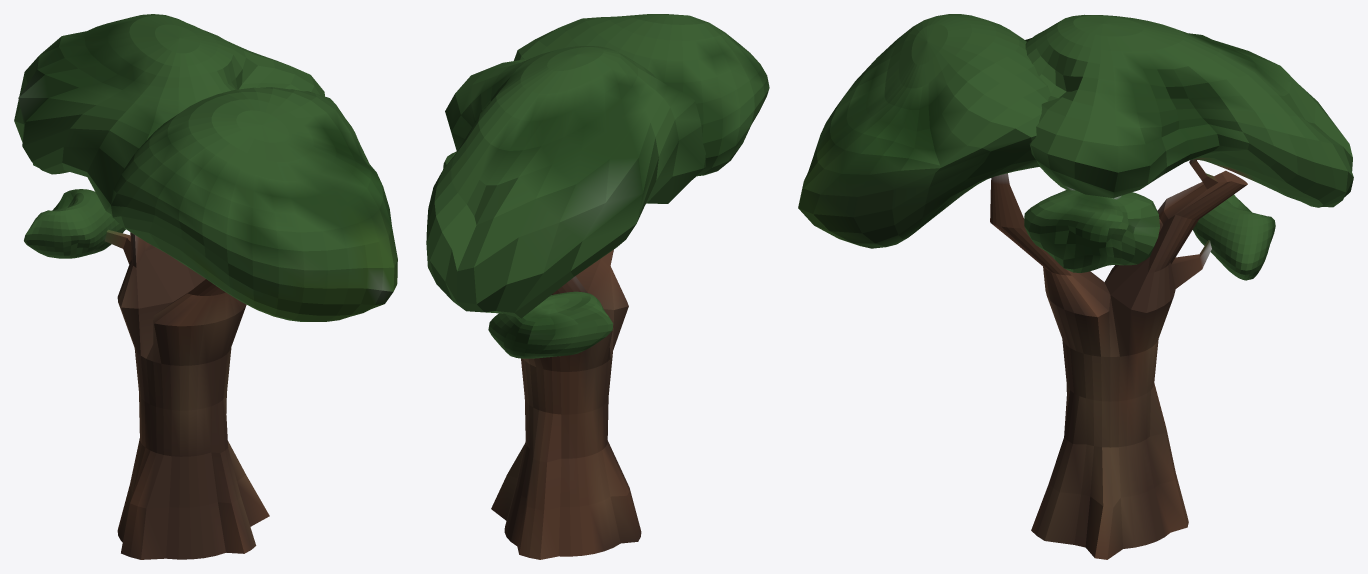
Rendered from FBX_Tree.fbx.
3 renders of one model, left to right at view 1: azimuth 30°, elevation 25°; view 2: azimuth 150°, elevation 25°; view 3: azimuth 270°, elevation 25°, orthographic. The views are drawn at different scales.
Visible parts, largest first — view 1: FBX_Tree; view 2: FBX_Tree; view 3: FBX_Tree.
Boxes of the visible parts, x1,y1,x2,y2 form: FBX_Tree: (14,14,397,559); FBX_Tree: (426,14,769,559); FBX_Tree: (798,14,1353,559).
Bounding box in the file's own units: 449 × 840 × 855.
